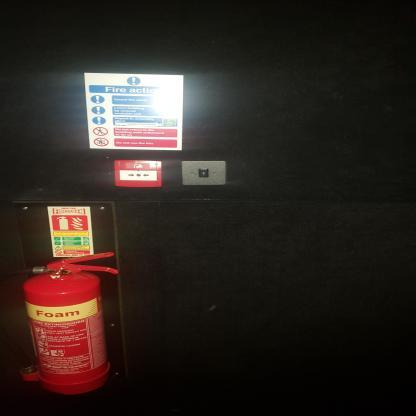Fire Extinguisher: (0, 234, 124, 416)
